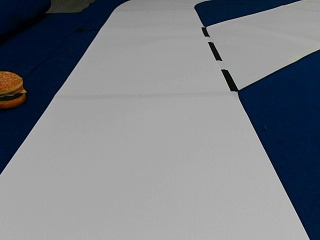burger: (0, 70, 26, 108)
